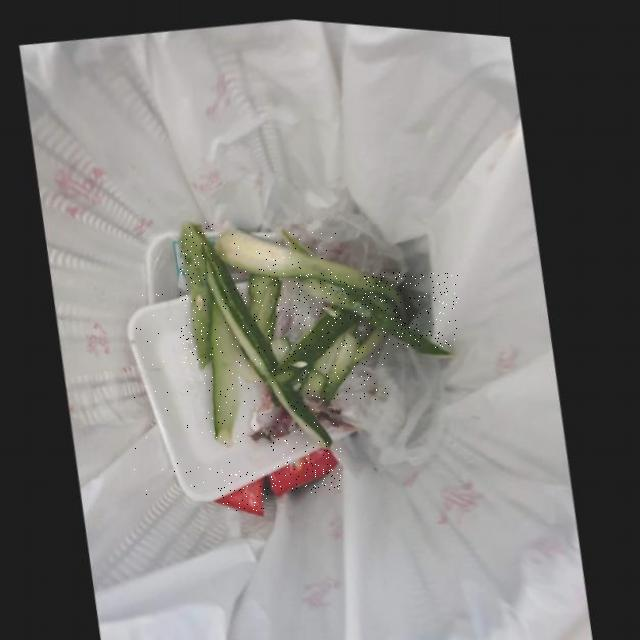biowaste: (206, 233, 337, 442), (290, 272, 459, 348), (218, 225, 381, 285), (275, 298, 363, 381), (306, 312, 388, 400), (180, 221, 215, 364), (214, 285, 243, 442), (253, 270, 283, 342)
styrofoam: (129, 290, 325, 497)
wrapper: (271, 441, 341, 490), (217, 472, 268, 511)
